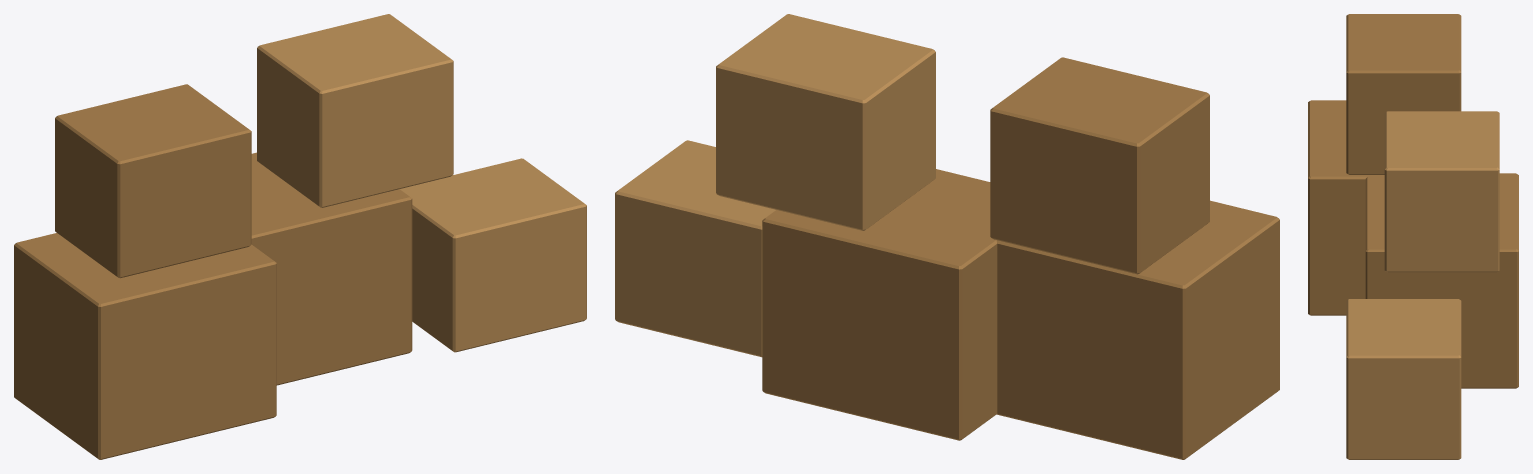
Rendered from cardboard_pile.glb.
3 views of the same model, side by side, from view 1: azimuth 30°, elevation 25°; view 2: azimuth 150°, elevation 25°; view 3: azimuth 270°, elevation 25° (orthographic). The views are drawn at different scales.
Parts seen in each view (by area): view 1: cardboard_pile; view 2: cardboard_pile; view 3: cardboard_pile.
Boxes of the visible parts, <box> form: cardboard_pile: <box>14,14,586,459</box>; cardboard_pile: <box>615,14,1279,459</box>; cardboard_pile: <box>1308,14,1518,459</box>.
Size of the model in its own units: 1.37 by 0.7 by 0.55.
